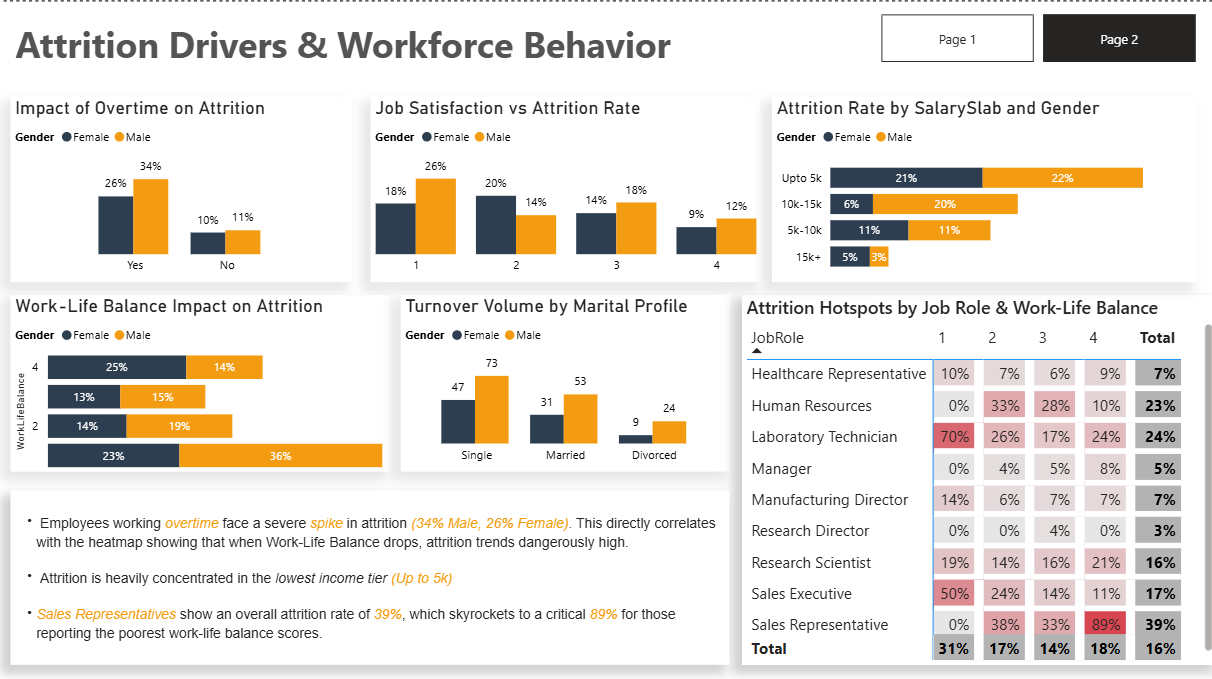

The page's visual inventory and layout, read from the dashboard file:
{"tool":"powerbi","page":{"name":"Page 2","canvas":[1280,720],"ordinal":1},"visuals":[{"type":"pageNavigator","box":[927.4,14.1,330.1,50.3],"z":0},{"type":"textbox","box":[11,14.1,730.9,62.9],"z":1000},{"type":"clusteredColumnChart","title":"Impact of Overtime on Attrition","fields":{"Category":["HR_Analytics.OverTime"],"Y":["HR_Analytics.Attrition Rate"],"Series":["HR_Analytics.Gender"]},"box":[11,100.6,358.4,194.9],"z":2000},{"type":"clusteredColumnChart","title":"Job Satisfaction vs Attrition Rate","fields":{"Category":["HR_Analytics.JobSatisfaction"],"Y":["HR_Analytics.Attrition Rate"],"Series":["HR_Analytics.Gender"]},"box":[389.8,100.6,410.3,194.9],"z":3000},{"type":"barChart","title":"Work-Life Balance Impact on Attrition","fields":{"Y":["HR_Analytics.Attrition Rate"],"Category":["HR_Analytics.WorkLifeBalance"],"Series":["HR_Analytics.Gender"]},"box":[11,308.1,399.2,185.5],"z":4000},{"type":"barChart","fields":{"Y":["HR_Analytics.Attrition Rate"],"Series":["HR_Analytics.Gender"],"Category":["HR_Analytics.SalarySlab"]},"box":[811.1,100.6,446.4,194.9],"z":5000},{"type":"clusteredColumnChart","title":"Turnover Volume by Marital Profile","fields":{"Category":["HR_Analytics.MaritalStatus"],"Y":["Sum(HR_Analytics.AttritionCount)"],"Series":["HR_Analytics.Gender"]},"box":[421.3,308.1,345.8,185.5],"z":6000},{"type":"pivotTable","title":"Attrition Hotspots by Job Role & Work-Life Balance","fields":{"Rows":["HR_Analytics.JobRole"],"Columns":["HR_Analytics.WorkLifeBalance"],"Values":["HR_Analytics.Attrition Rate"]},"box":[779.6,308.1,499.8,388.2],"z":7000},{"type":"textbox","box":[11.7,513.3,755,183.3],"z":9000}]}

Visuals, with their boxes in screenshot pixels (x1, y1, x2, y2), scaled from the page's 1280x720 canvas onto the 1212x679 screenshot:
pageNavigator: left=878, top=13, right=1191, bottom=61
textbox: left=10, top=13, right=702, bottom=73
"Impact of Overtime on Attrition" clusteredColumnChart: left=10, top=95, right=350, bottom=279
"Job Satisfaction vs Attrition Rate" clusteredColumnChart: left=369, top=95, right=758, bottom=279
"Work-Life Balance Impact on Attrition" barChart: left=10, top=291, right=388, bottom=465
barChart - HR_Analytics.Attrition Rate x HR_Analytics.Gender: left=768, top=95, right=1191, bottom=279
"Turnover Volume by Marital Profile" clusteredColumnChart: left=399, top=291, right=726, bottom=465
"Attrition Hotspots by Job Role & Work-Life Balance" pivotTable: left=738, top=291, right=1211, bottom=657
textbox: left=11, top=484, right=726, bottom=657
